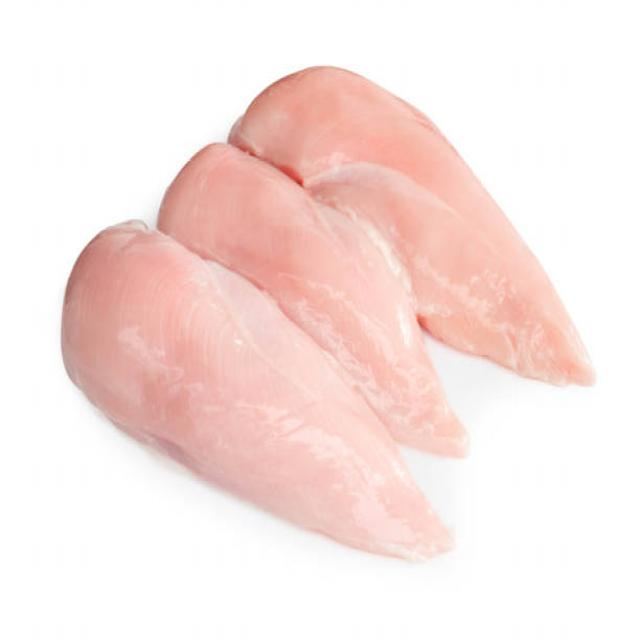chicken thigh: (0, 286, 402, 552), (316, 38, 640, 356), (199, 158, 366, 316)
